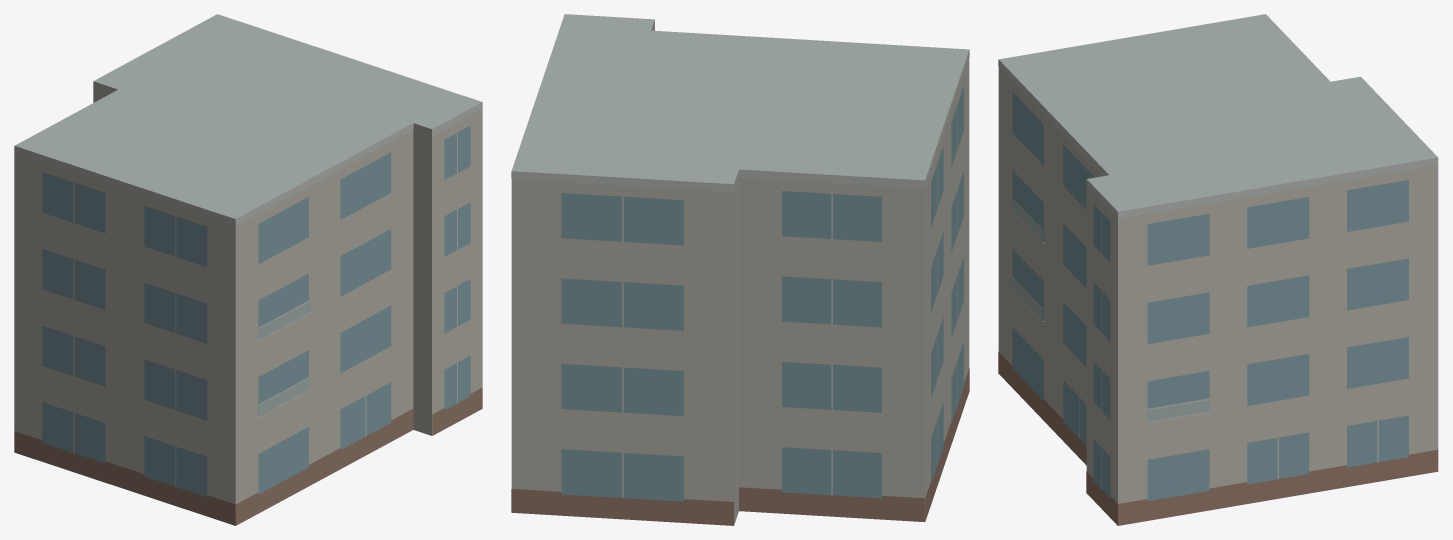
The model's file is survey-upis-32457098.glb.
3 views of the same model, side by side, from view 1: azimuth 30°, elevation 25°; view 2: azimuth 150°, elevation 25°; view 3: azimuth 270°, elevation 25° (orthographic). The views are drawn at different scales.
Visible parts, largest first — view 1: survey-upis-32457098.tmp; view 2: survey-upis-32457098.tmp; view 3: survey-upis-32457098.tmp.
Part boxes in pixels (x1,y1,x2,y2): survey-upis-32457098.tmp: (14,14,482,525); survey-upis-32457098.tmp: (511,14,969,525); survey-upis-32457098.tmp: (998,14,1438,525).
Size of the model in its own units: 14.4 by 10.65 by 13.53.
